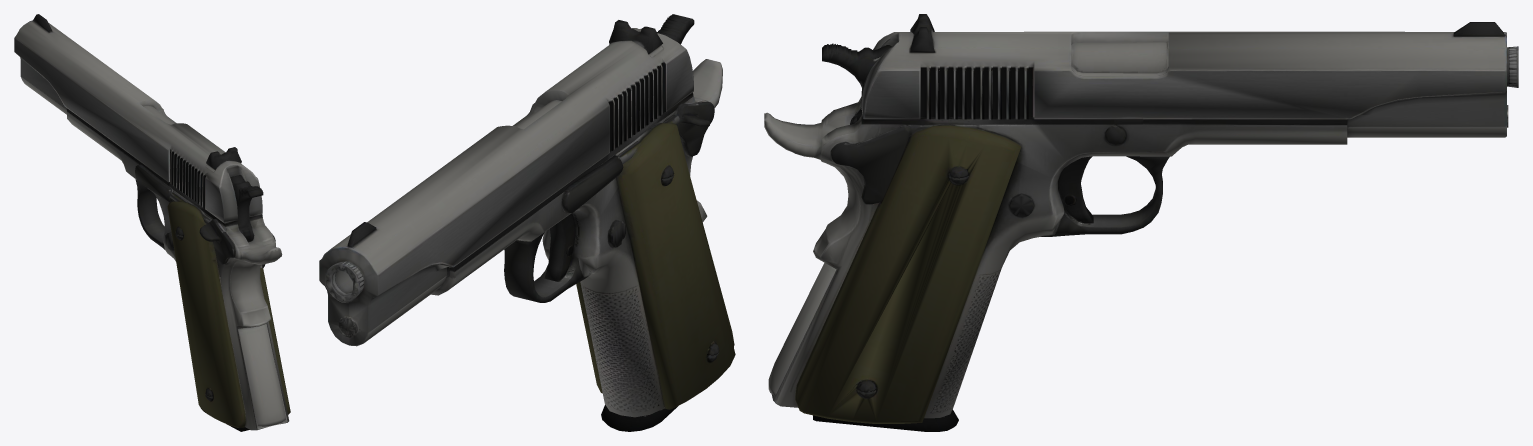
Rendered from pistol.glb.
The picture shows the model from 3 angles, left to right: view 1: azimuth 30°, elevation 25°; view 2: azimuth 150°, elevation 25°; view 3: azimuth 270°, elevation 25°; orthographic projection. The views are drawn at different scales.
Visible parts, largest first — view 1: tripo_node_38b74272-64e4-477d-8ecd-d8751bfac779; view 2: tripo_node_38b74272-64e4-477d-8ecd-d8751bfac779; view 3: tripo_node_38b74272-64e4-477d-8ecd-d8751bfac779.
Part boxes in pixels (x1=…): tripo_node_38b74272-64e4-477d-8ecd-d8751bfac779: x1=14, y1=14, x2=290, y2=431; tripo_node_38b74272-64e4-477d-8ecd-d8751bfac779: x1=319, y1=14, x2=735, y2=431; tripo_node_38b74272-64e4-477d-8ecd-d8751bfac779: x1=764, y1=14, x2=1518, y2=431.
Bounding box in the file's own units: 0.0655 × 0.22 × 0.376.
Materials: 1 (1 with a texture image).
